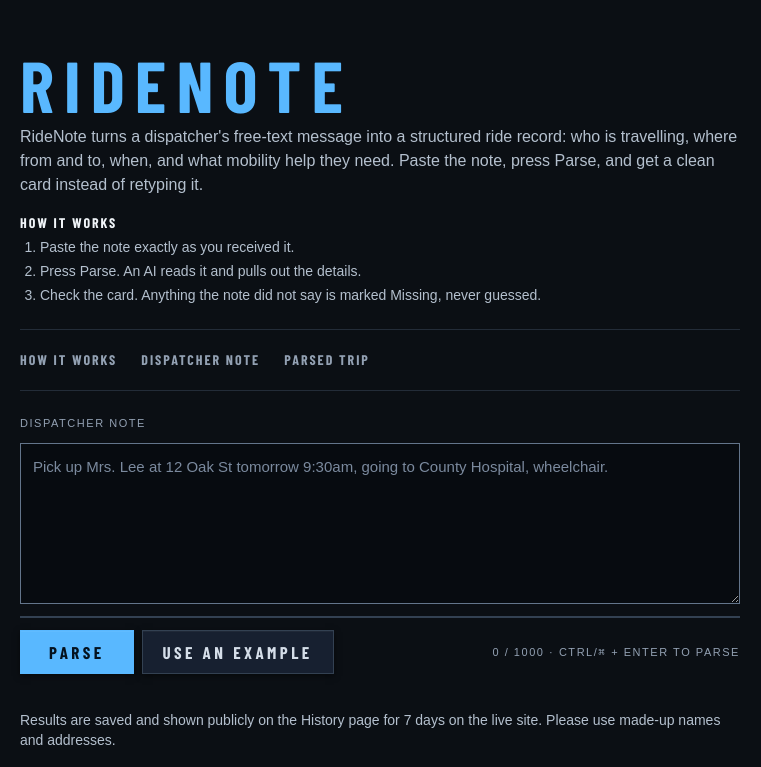
Test: Home page › renders hostile text from the server as plain text, never as HTML
This screenshot has width=761, height=767.
In the text box labelled "Dispatcher note": [380, 524] box [20,443,740,604], type "Pick up Lee"
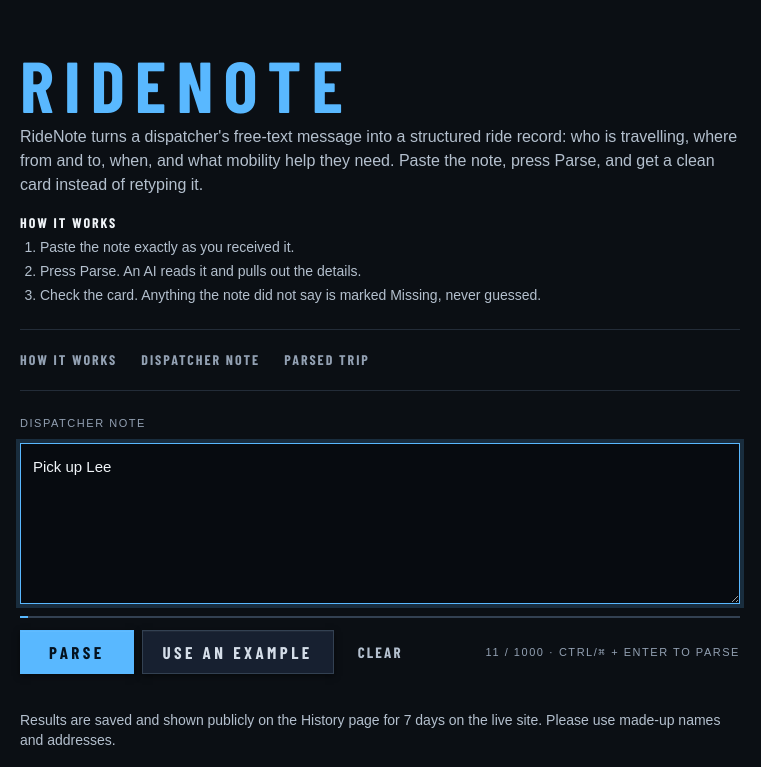
Click the button "Parse": [77, 652] box [20,630,134,674]
(page scrolled)
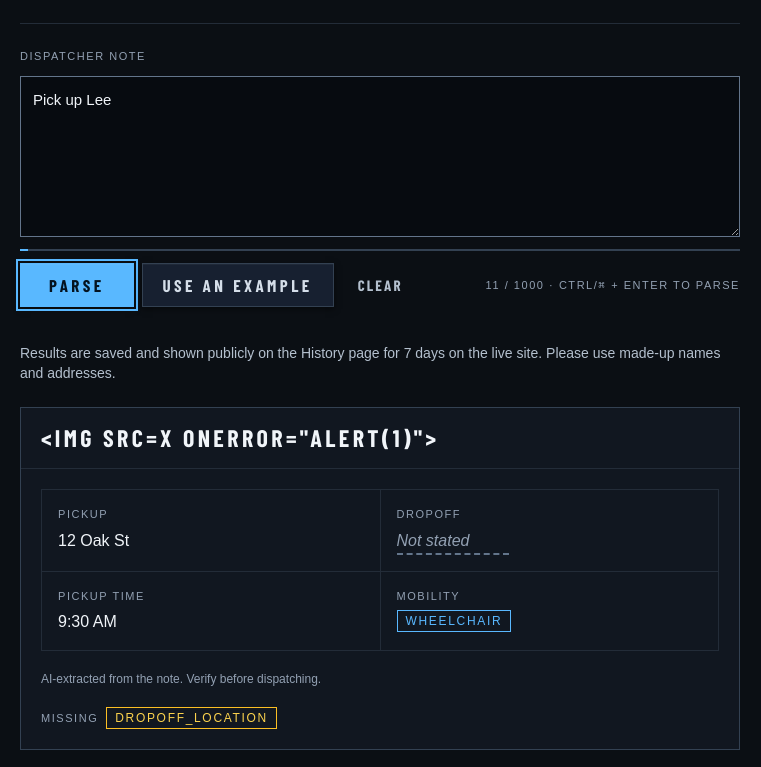
Check: the heading "<img src=x onerror=\"alert(1)\">" is shown, box [21,408,739,469]
